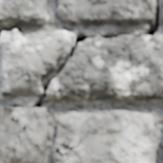brick: (52, 112, 157, 162), (0, 107, 47, 162), (59, 0, 155, 25), (0, 0, 47, 26)
broken_brick: (48, 35, 162, 102), (0, 29, 72, 97)
crack: (2, 0, 160, 109), (52, 131, 89, 159)
